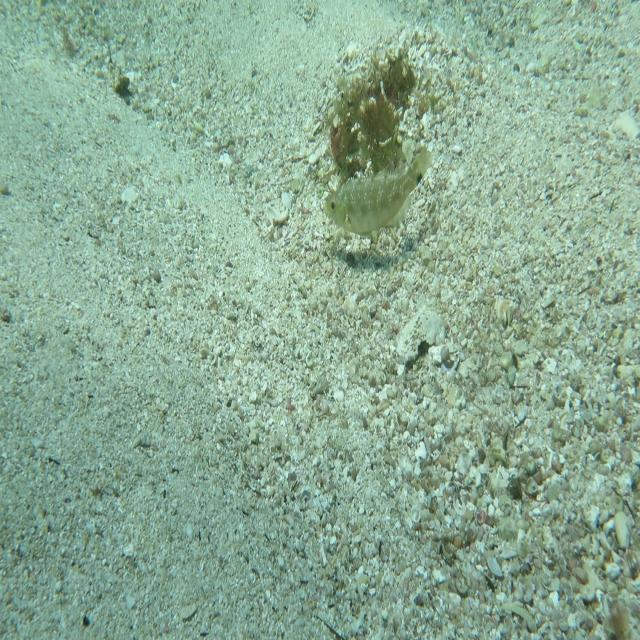AM: (320, 142, 437, 240)
core_nest: (371, 61, 404, 100)
nest: (322, 32, 419, 200)
vegetation: (114, 71, 134, 98)
